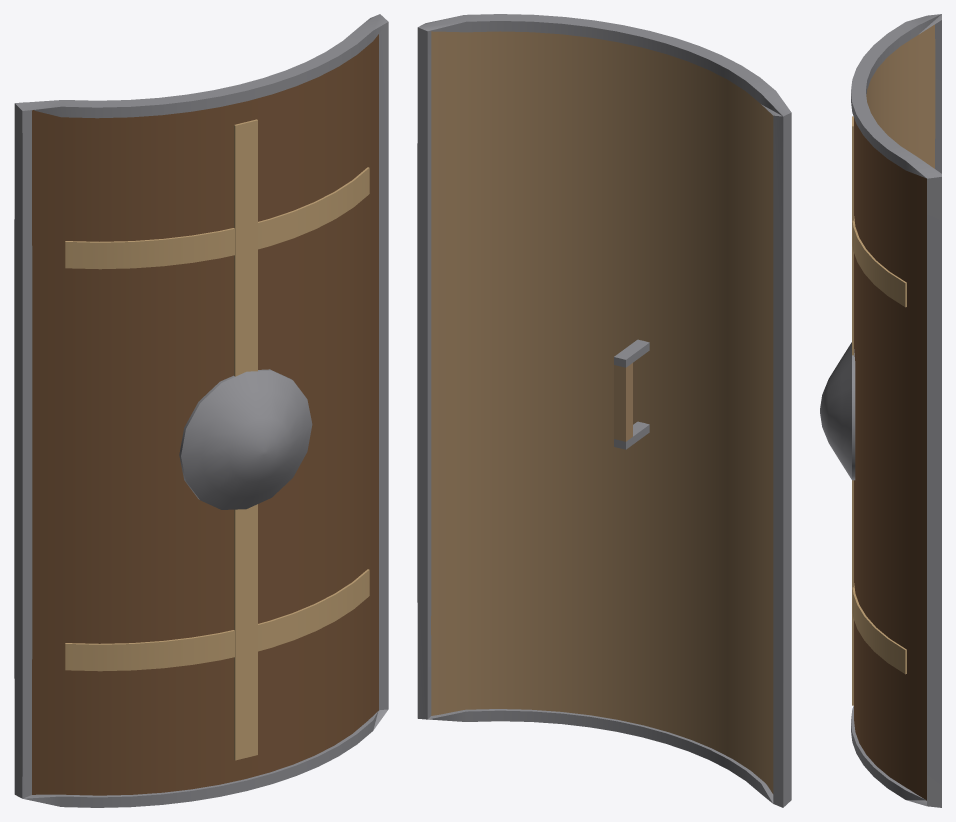
File: tower.glb
3 renders of one model, left to right at view 1: azimuth 30°, elevation 25°; view 2: azimuth 150°, elevation 25°; view 3: azimuth 270°, elevation 25°, orthographic. The views are drawn at different scales.
Visible parts, largest first — view 1: OUT; view 2: OUT; view 3: OUT.
Part boxes in pixels (x1,y1,x2,y2): OUT: (14,14,388,807); OUT: (417,14,791,807); OUT: (820,14,941,807).
Bounding box in the file's own units: 0.7243 × 1.32 × 0.2289.
